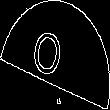O_S: (36, 24, 74, 86)
